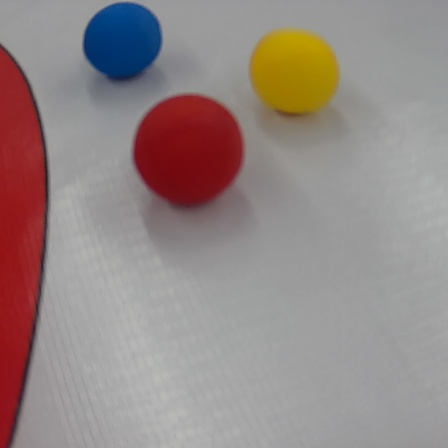blue: (83, 1, 167, 79)
red: (135, 96, 245, 212)
red_base: (0, 39, 47, 445)
yellow: (246, 27, 341, 117)
